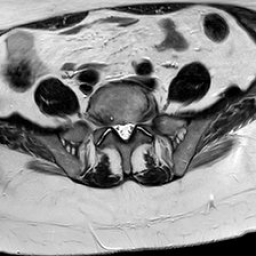CCS_stenosis: (121, 113, 128, 148)
LFS_stenosis: (136, 110, 142, 136)
LLS_normal: (128, 113, 136, 140)
RFS_stenosis: (105, 113, 113, 138)
RLS_normal: (113, 114, 121, 142)
